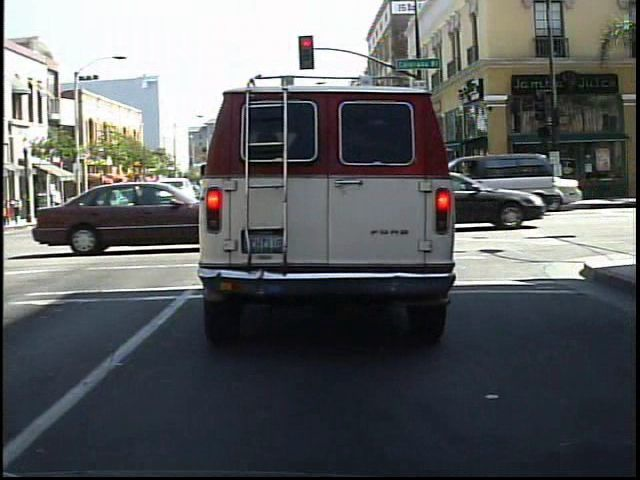person: (537, 155, 558, 204), (511, 161, 531, 206)
